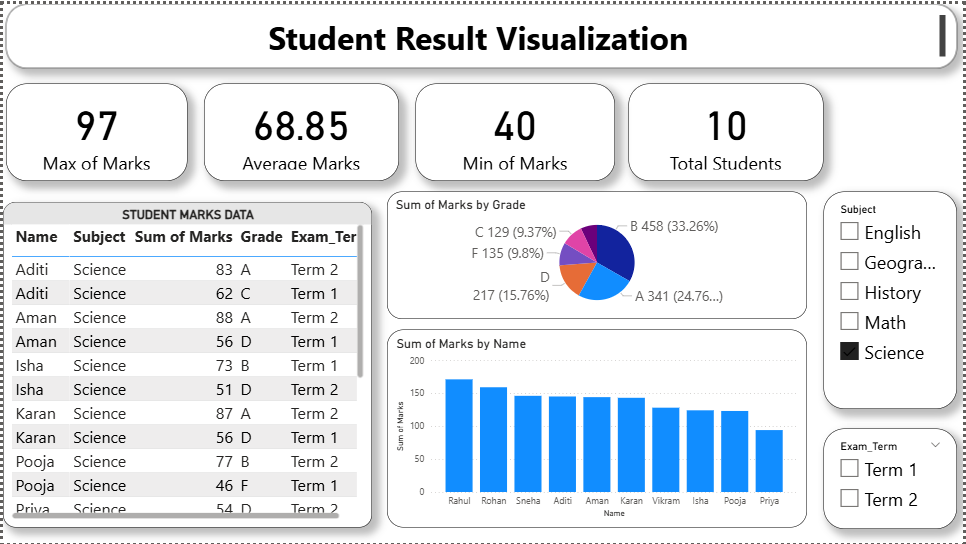

What the dashboard file says about the page in this screenshot:
{"tool":"powerbi","page":{"name":"Page 1","canvas":[1280,720],"ordinal":0},"visuals":[{"type":"card","fields":{"Values":["student_marks_with_grades.Average Marks"]},"box":[268,106,260,130],"z":0},{"type":"card","fields":{"Values":["student_marks_with_grades.Total Students"]},"box":[834,106,260,130],"z":1000},{"type":"card","fields":{"Values":["studentdata.Marks"]},"box":[4,106,242,130],"z":2000},{"type":"card","fields":{"Values":["studentdata.Marks"]},"box":[550,106,266,130],"z":3000},{"type":"tableEx","title":"STUDENT MARKS DATA","fields":{"Values":["studentdata.Name","studentdata.Subject","studentdata.Marks","studentdata.Grade","studentdata.Exam_Term"]},"box":[0,264,492,434],"z":4000},{"type":"columnChart","fields":{"Y":["studentdata.Marks"],"Category":["studentdata.Name"]},"box":[512,434,560,264],"z":5000},{"type":"slicer","fields":{"Values":["studentdata.Subject"]},"box":[1094,250,178,290],"z":6000},{"type":"pieChart","fields":{"Category":["studentdata.Grade"],"Y":["studentdata.Marks"]},"box":[512,250,560,170],"z":7000},{"type":"slicer","fields":{"Values":["studentdata.Exam_Term"]},"box":[1094,566,178,134],"z":8000},{"type":"textbox","box":[4,0,1268,86],"z":8001}]}

Visuals, with their boxes in screenshot pixels (x1, y1, x2, y2), scaled from the page's 1280x720 canvas onto the 966x544 screenshot:
card - student_marks_with_grades.Average Marks: 202/80/398/178
card - student_marks_with_grades.Total Students: 629/80/826/178
card - studentdata.Marks: 3/80/186/178
card - studentdata.Marks: 415/80/616/178
"STUDENT MARKS DATA" tableEx: 0/199/371/527
columnChart - studentdata.Marks x studentdata.Name: 386/328/809/527
slicer - studentdata.Subject: 826/189/960/408
pieChart - studentdata.Grade x studentdata.Marks: 386/189/809/317
slicer - studentdata.Exam_Term: 826/428/960/529
textbox: 3/0/960/65
